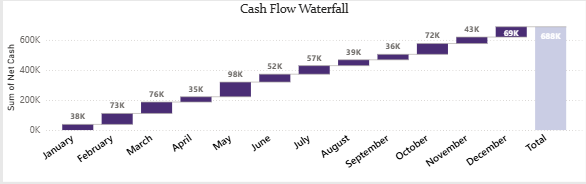

The dashboard page shown, as its layout file describes it:
{"tool":"powerbi","page":{"name":"Cash Flow Waterfall","canvas":[1280,720],"ordinal":7},"visuals":[{"type":"waterfallChart","title":"Cash Flow Waterfall","fields":{"Y":["Sum(Table1.Net Cash)"],"Category":["Table1.Month.Variation.Date Hierarchy.Month"]},"box":[0,27.4,1270.1,578.9],"z":0}]}

Visuals, with their boxes on the page's 1280x720 design canvas (x1, y1, x2, y2). These are canvas units, not pixel positions in the 586x184 screenshot, which may show the page scaled, cropped or inside an application window:
"Cash Flow Waterfall" waterfallChart: bbox=(0, 27, 1270, 606)
